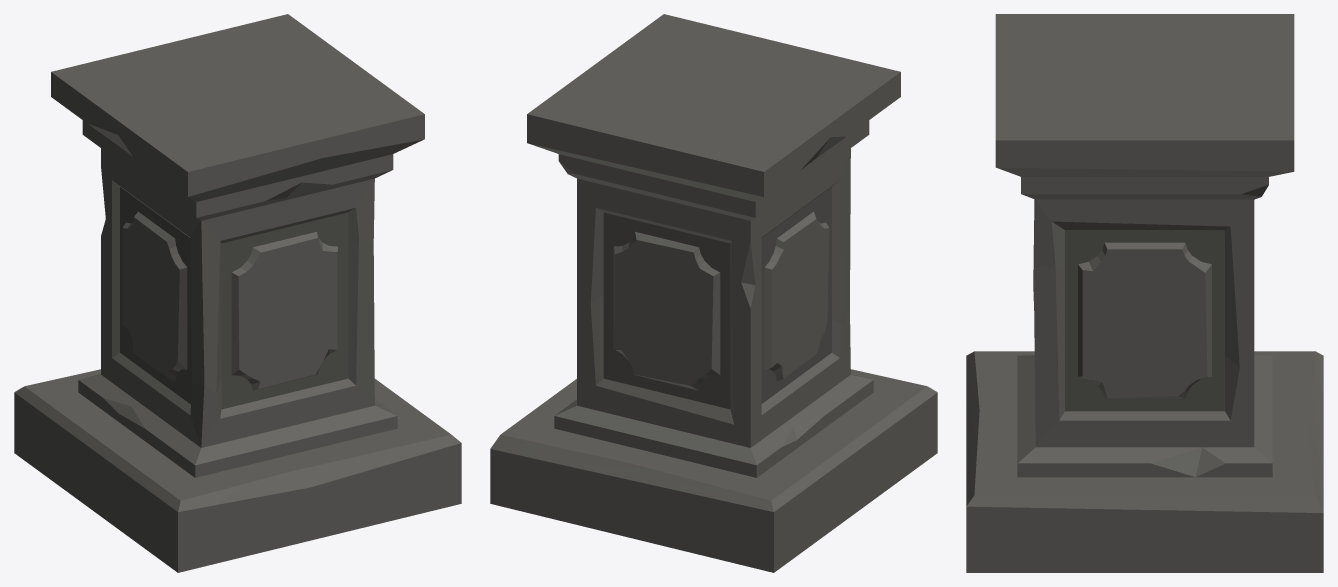
File: kingdom_SM_Prop_Statue_Plinth_01.gltf
3 renders of one model, left to right at view 1: azimuth 30°, elevation 25°; view 2: azimuth 150°, elevation 25°; view 3: azimuth 270°, elevation 25°, orthographic. The views are drawn at different scales.
Parts seen in each view (by area): view 1: SM_Prop_Statue_Plinth_01; view 2: SM_Prop_Statue_Plinth_01; view 3: SM_Prop_Statue_Plinth_01.
Part boxes in pixels (x1,y1,x2,y2): SM_Prop_Statue_Plinth_01: (14,14,461,572); SM_Prop_Statue_Plinth_01: (490,14,937,572); SM_Prop_Statue_Plinth_01: (966,14,1323,572).
Size of the model in its own units: 1.44 by 1.87 by 1.44.
1 material, 1 textured.
